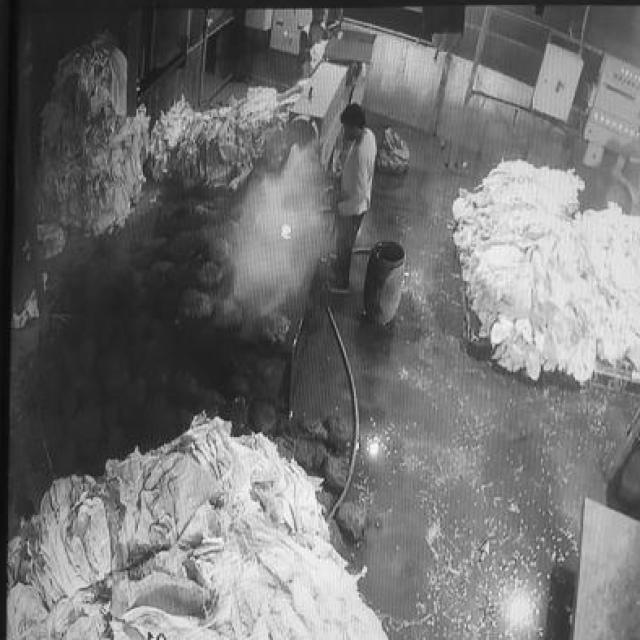fire: (222, 143, 340, 325)
